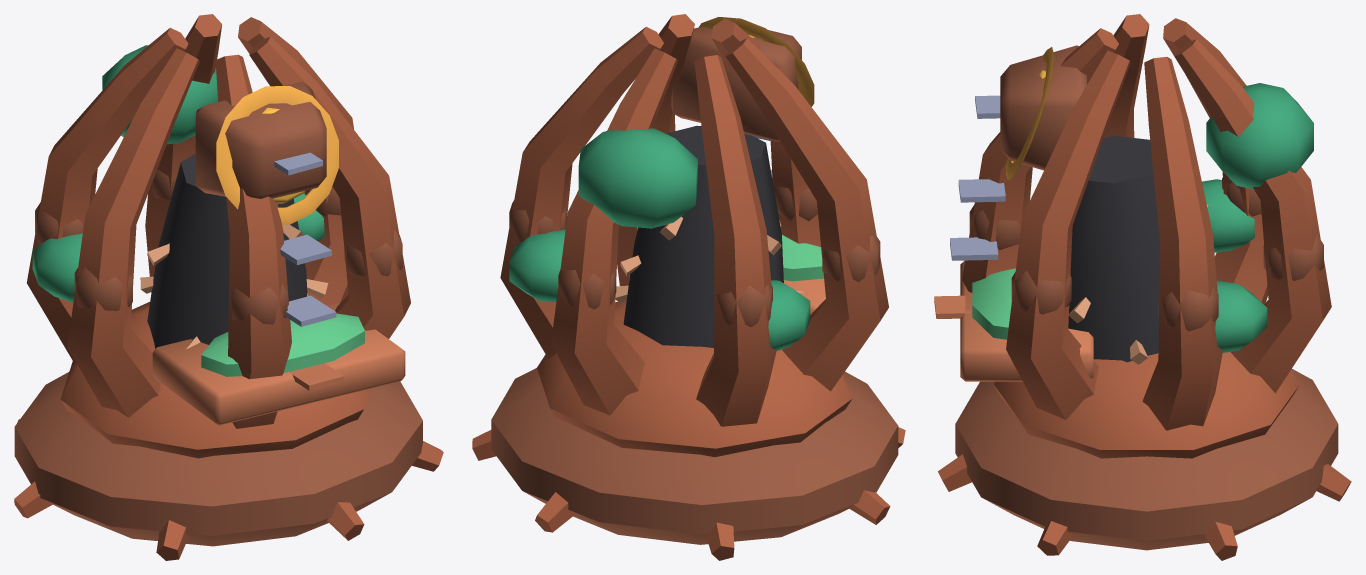
Rendered from root_lurker.glb.
3 views of the same model, side by side, from view 1: azimuth 30°, elevation 25°; view 2: azimuth 150°, elevation 25°; view 3: azimuth 270°, elevation 25° (orthographic).
Visible parts, largest first — view 1: RootLurker; view 2: RootLurker; view 3: RootLurker.
Boxes of the visible parts, x1,y1,x2,y2 form: RootLurker: (14, 14, 443, 560); RootLurker: (472, 14, 905, 560); RootLurker: (934, 14, 1351, 560).
Bounding box in the file's own units: 2.72 × 3.2 × 2.58.
Materials: 1 (1 with a texture image).
